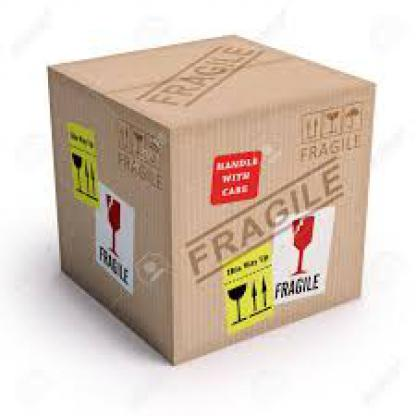paquete: (33, 23, 390, 376)
